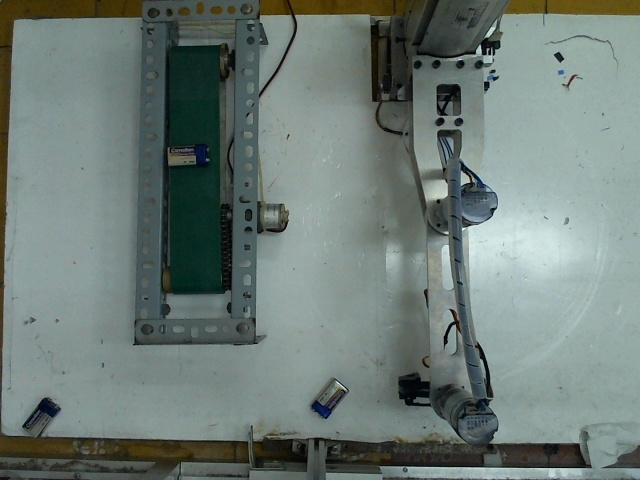battery: (309, 370, 350, 420), (23, 394, 62, 437), (162, 141, 213, 170)
